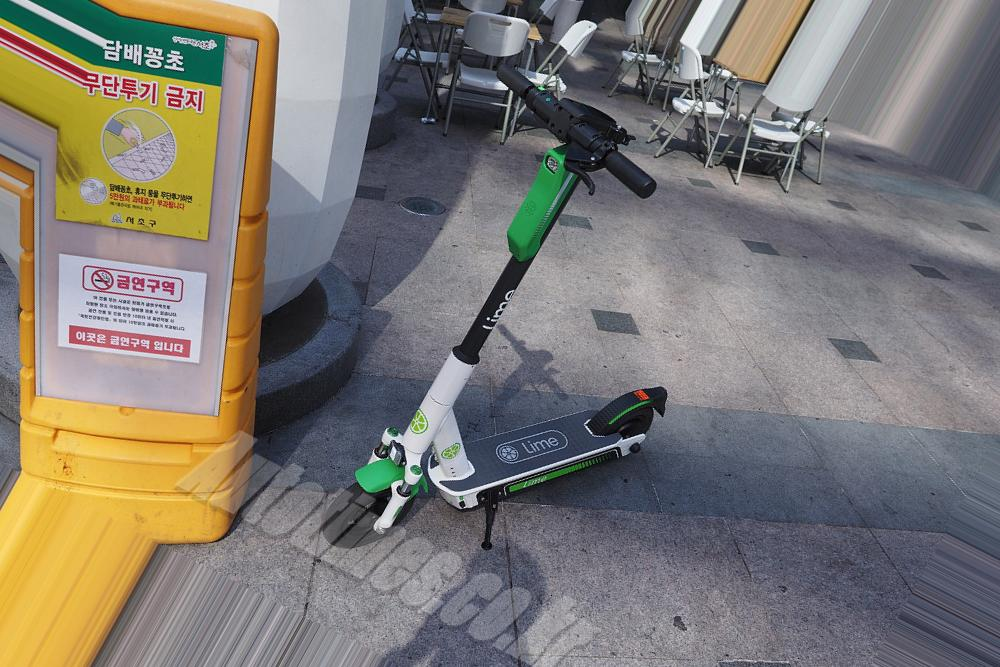scooter: (321, 64, 668, 548)
